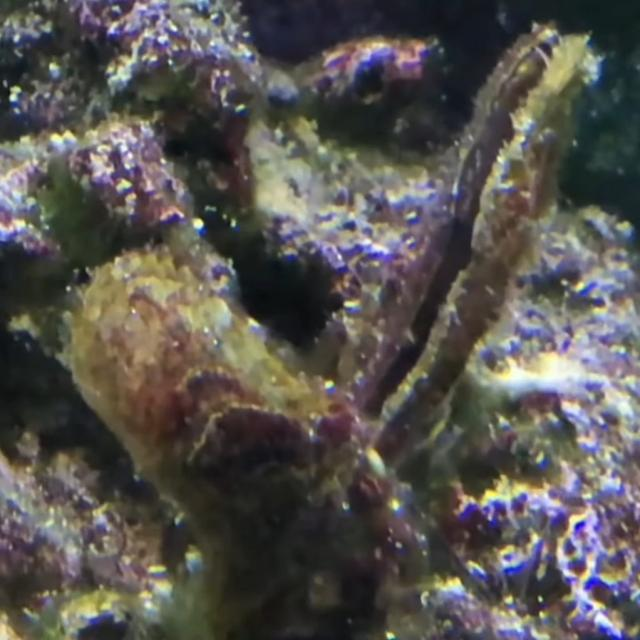Oyster-Indeterminate: (65, 250, 402, 594)
Oyster-Open: (312, 26, 600, 481)
